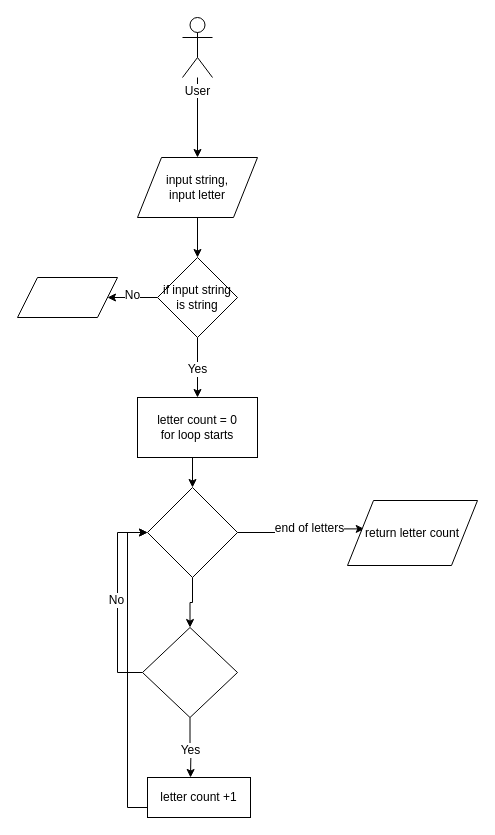
Image size: 495x835. Some labels were removed from this diagram. Here are the shapes that lost their labels. From the top down, the centre of each, then its label:
At pixel 67 297: "return 0".
At pixel 192 532: "next letter".
At pixel 190 672: "if current letter == input letter".
